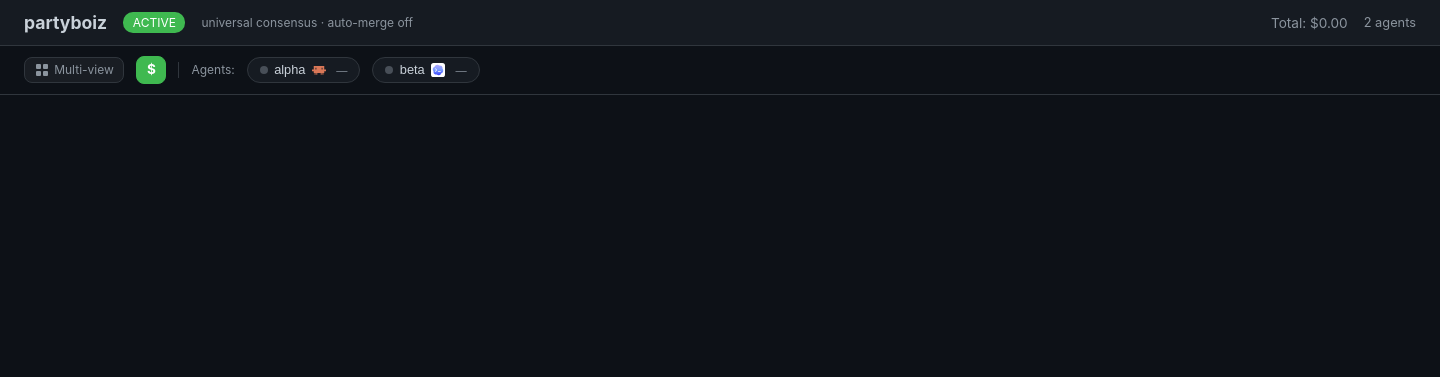
Test case: MissionControl › hides agent tooltip when mouse leaves the pill
Hover over the button "alpha —" at point(304, 70), box [247,57,360,83]
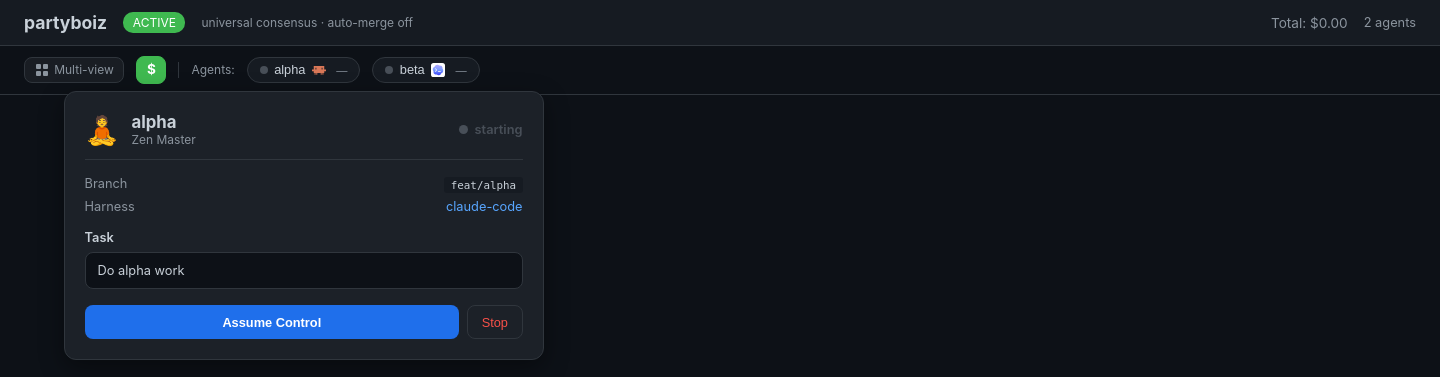
Expected: the button "Assume Control" is shown, [85,305,459,339]
Move the pointer off the button "alpha —", box [247,57,360,83]
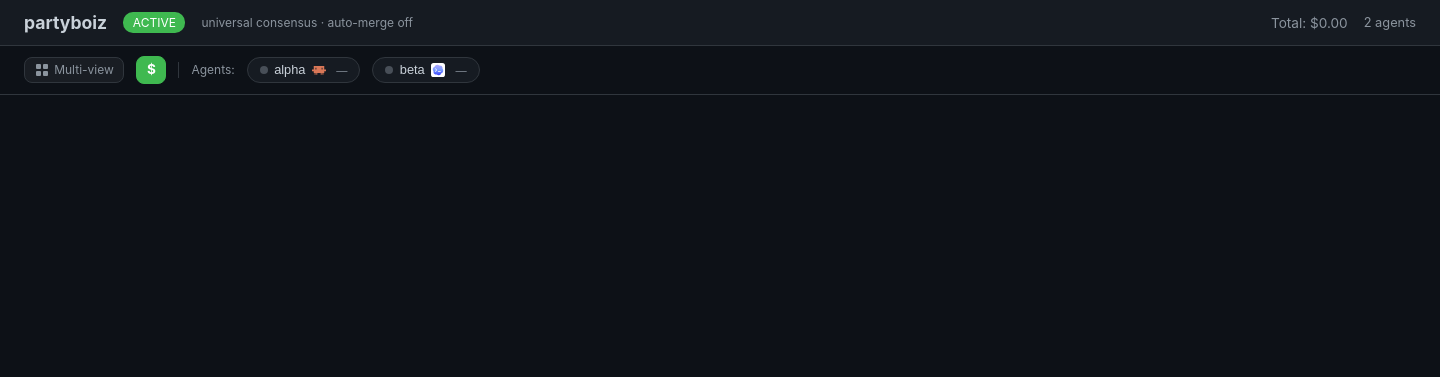
Expected: the button "Assume Control" is gone
